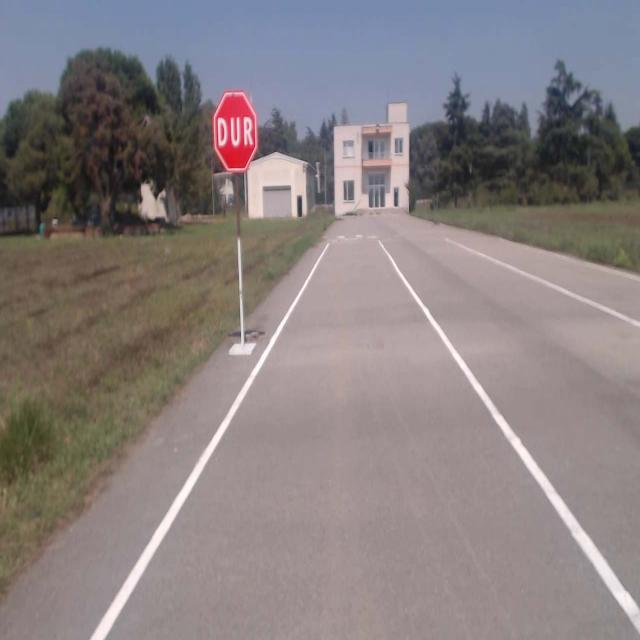dur: (212, 94, 256, 173)
